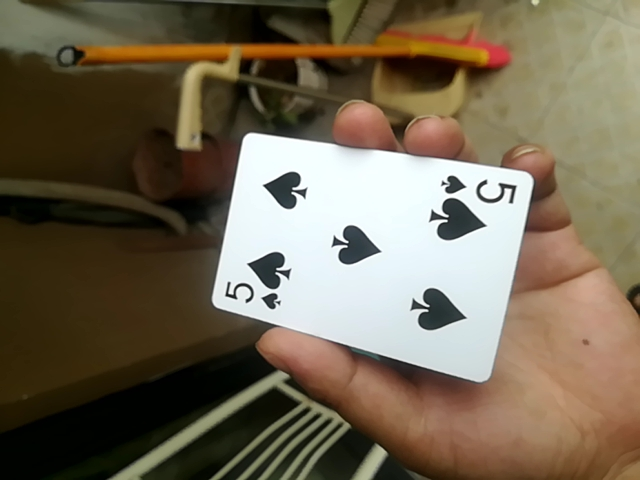ht 5: (203, 130, 534, 382)
